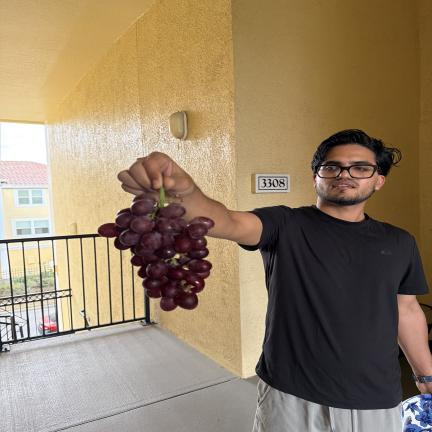grape_cluster: (98, 188, 214, 311)
